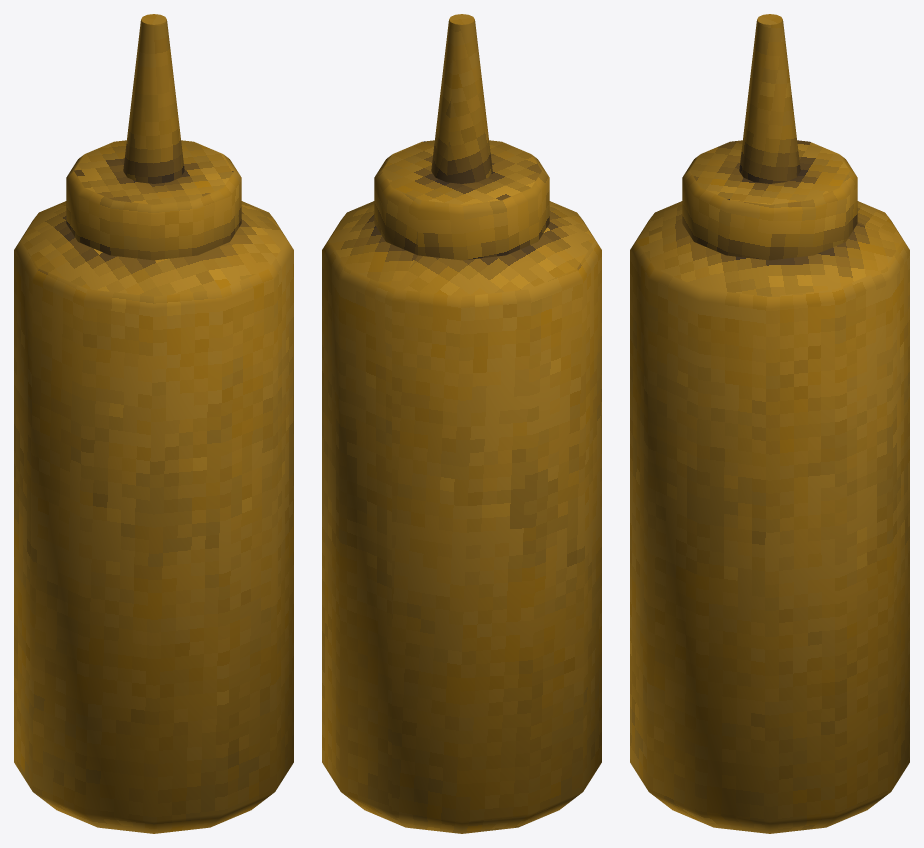
Rendered from Mustard.fbx.
3 renders of one model, left to right at view 1: azimuth 30°, elevation 25°; view 2: azimuth 150°, elevation 25°; view 3: azimuth 270°, elevation 25°, orthographic.
Visible parts, largest first — view 1: Mustard; view 2: Mustard; view 3: Mustard.
Part boxes in pixels (bbox=[...]): Mustard: bbox=[14, 14, 293, 833]; Mustard: bbox=[322, 14, 601, 833]; Mustard: bbox=[630, 14, 909, 833].
Bounding box in the file's own units: 0.1413 × 0.427 × 0.1413.
